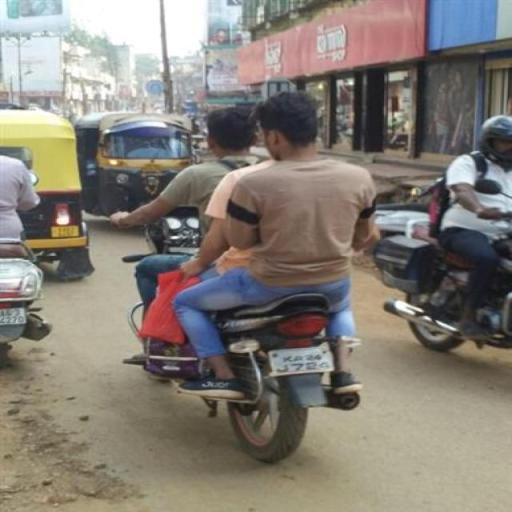tripple riding: (100, 90, 388, 316)
